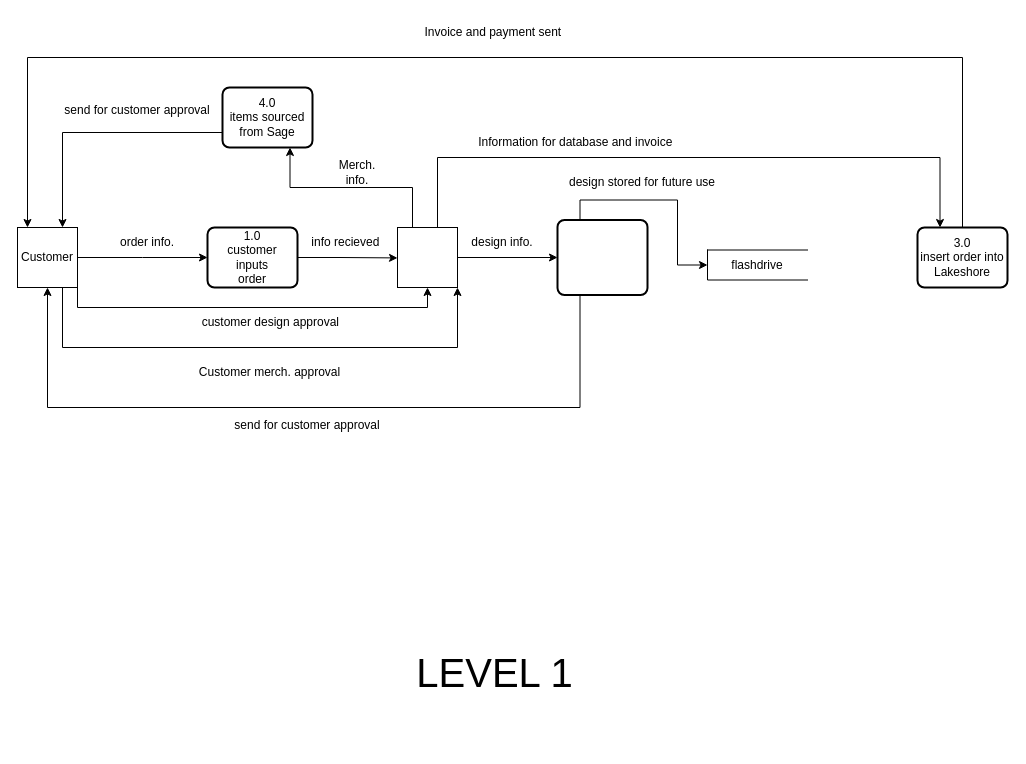
The diagram is 1026 pixels wide and 764 high, and some of its shapes have lost their labels. The box of each missing label's shape, as (x1, y1, x2, y2) in pixels:
2.0 design is made by designer: (556, 218, 648, 296)
Advantage Specialties: (396, 226, 458, 288)
